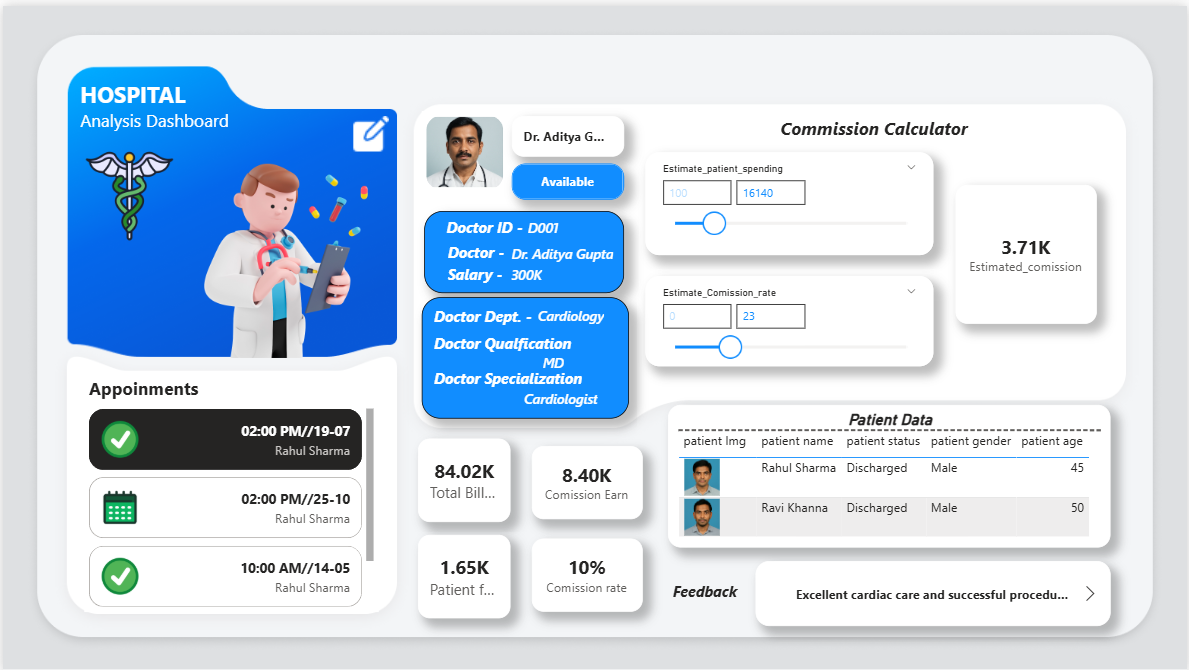

The page's visual inventory and layout, read from the dashboard file:
{"tool":"powerbi","page":{"name":"Doctor's Dashboard","canvas":[1280,720],"ordinal":1},"visuals":[{"type":"image","box":[196,158,226,222],"z":0},{"type":"shape","box":[455,221.2,216.2,88.8],"z":0,"group":"g1"},{"type":"shape","box":[452.5,315,223.8,131.2],"z":0,"group":"g2"},{"type":"textbox","box":[78.2,74.1,179.8,72.7],"z":1000},{"type":"textbox","box":[475.8,274.1,98.8,34.8],"z":1000,"group":"g1"},{"type":"textbox","box":[460.3,319,141.2,35],"z":1000,"group":"g2"},{"type":"image","box":[363.6,119.4,68.6,38.4],"z":2000},{"type":"textbox","box":[474.4,222.6,98.8,34.8],"z":2000,"group":"g1"},{"type":"textbox","box":[460,386.2,193.8,35],"z":2000,"group":"g2"},{"type":"textbox","box":[475.8,249,73.7,34.8],"z":3000,"group":"g1"},{"type":"textbox","box":[460.3,349,175.6,35.6],"z":3000,"group":"g2"},{"type":"tableEx","title":"Patient Data","fields":{"Values":["Patient_info.patient_Img","Patient_info.patient_name","Patient_info.patient_status","Patient_info.patient_gender","Patient_info.patient_age"]},"box":[719.3,431.3,478.6,154.4],"z":3000},{"type":"cardVisual","fields":{"Data":["Sum(Patient_info.doctor_salary)"]},"box":[544,268.5,91.8,41.7],"z":4000,"group":"g1"},{"type":"cardVisual","fields":{"Data":["Min(Patient_info.doctor_department)"]},"box":[572.1,317.8,103.8,32.5],"z":4000,"group":"g2"},{"type":"cardVisual","title":"vrgrbb","fields":{"Data":["Measure.Total_bill_amount"]},"box":[448.7,468.2,100,90],"z":4000},{"type":"cardVisual","fields":{"Data":["Min(Appoinment.doctor_id)"]},"box":[562.1,221.2,91.8,34.8],"z":5000,"group":"g1"},{"type":"cardVisual","fields":{"Data":["Min(Patient_info.doctor_qualification)"]},"box":[577.5,368.8,72.5,31.2],"z":5000,"group":"g2"},{"type":"cardVisual","fields":{"Data":["Measure.Doctor_fees"]},"box":[449.3,571.8,100,90.1],"z":5000},{"type":"cardVisual","fields":{"Data":["Min(Patient_info.doctor_name)"]},"box":[544,244.9,130.8,41.7],"z":6000,"group":"g1"},{"type":"cardVisual","fields":{"Data":["Min(Patient_info.doctor_specialization)"]},"box":[557.5,405,125,35],"z":6000,"group":"g2"},{"type":"cardVisual","title":"vrgrbb","fields":{"Data":["Measure.Doc_comission_amt"]},"box":[571.8,476.1,119.7,78.9],"z":6000},{"type":"cardVisual","title":"vrgrbb","fields":{"Data":["Measure.Doc_Comission_rate"]},"box":[571.8,576.1,119.7,78.9],"z":7000},{"type":"cardVisual","fields":{"Data":["Min(Patient_info.patient_Img)"]},"box":[452.5,113.1,93.1,90],"z":8000},{"type":"cardVisual","title":"vrgrbb","fields":{"Data":["Min(Patient_info.doctor_name)"]},"box":[549.7,119,121.5,44.2],"z":9000},{"type":"cardVisual","title":"vrgrbb","fields":{"Data":["Min(Patient_info.doctor_availability)"]},"box":[550,170.9,121.8,39.1],"z":10000},{"type":"image","box":[64,152,146,106],"z":11000},{"type":"advancedSlicerVisual","fields":{"Values":["Appoinment.Appoinment_date_time"]},"box":[87.5,400,318.8,255],"z":13000},{"type":"advancedSlicerVisual","fields":{"Values":["Patient_info.satisfaction_feedback"]},"box":[813.8,600,383.8,70],"z":14000},{"type":"textbox","box":[718.8,616.2,95,36.2],"z":15000},{"type":"group","id":"g1","title":"dr_detail_1","box":[455,221.2,219.8,89],"z":16000},{"type":"group","id":"g2","title":"dr_detail_2","box":[452.5,315,230,131.2],"z":17000},{"type":"slicer","fields":{"Values":["Estimate_patient_spending.Estimate_patient_spending"]},"box":[694.6,158.1,310.8,110.8],"z":18000},{"type":"slicer","fields":{"Values":["Estimate_Comission_rate.Estimate_Comission_rate"]},"box":[694.6,291.9,310.8,97.3],"z":19000},{"type":"textbox","box":[766.2,114.9,351.4,36.5],"z":20000},{"type":"cardVisual","fields":{"Data":["Measure.Estimated_comission"]},"box":[1029.7,193.2,152.7,150],"z":21000}]}

Visuals, with their boxes in screenshot pixels (x1, y1, x2, y2), scaled from the page's 1280x720 canvas onto the 1189x670 screenshot:
image: x1=182 y1=147 x2=392 y2=354
shape: x1=423 y1=206 x2=623 y2=288
shape: x1=420 y1=293 x2=628 y2=415
textbox: x1=73 y1=69 x2=240 y2=137
textbox: x1=442 y1=255 x2=534 y2=287
textbox: x1=428 y1=297 x2=559 y2=329
image: x1=338 y1=111 x2=401 y2=147
textbox: x1=441 y1=207 x2=532 y2=240
textbox: x1=427 y1=359 x2=607 y2=392
textbox: x1=442 y1=232 x2=510 y2=264
textbox: x1=428 y1=325 x2=591 y2=358
"Patient Data" tableEx: x1=668 y1=401 x2=1113 y2=545
cardVisual - Sum(Patient_info.doctor_salary): x1=505 y1=250 x2=591 y2=289
cardVisual - Min(Patient_info.doctor_department): x1=531 y1=296 x2=628 y2=326
"vrgrbb" cardVisual: x1=417 y1=436 x2=510 y2=519
cardVisual - Min(Appoinment.doctor_id): x1=522 y1=206 x2=607 y2=238
cardVisual - Min(Patient_info.doctor_qualification): x1=536 y1=343 x2=604 y2=372
cardVisual - Measure.Doctor_fees: x1=417 y1=532 x2=510 y2=616
cardVisual - Min(Patient_info.doctor_name): x1=505 y1=228 x2=627 y2=267
cardVisual - Min(Patient_info.doctor_specialization): x1=518 y1=377 x2=634 y2=409
"vrgrbb" cardVisual: x1=531 y1=443 x2=642 y2=516
"vrgrbb" cardVisual: x1=531 y1=536 x2=642 y2=610
cardVisual - Min(Patient_info.patient_Img): x1=420 y1=105 x2=507 y2=189
"vrgrbb" cardVisual: x1=511 y1=111 x2=623 y2=152
"vrgrbb" cardVisual: x1=511 y1=159 x2=624 y2=195
image: x1=59 y1=141 x2=195 y2=240
advancedSlicerVisual - Appoinment.Appoinment_date_time: x1=81 y1=372 x2=377 y2=610
advancedSlicerVisual - Patient_info.satisfaction_feedback: x1=756 y1=558 x2=1112 y2=623
textbox: x1=668 y1=573 x2=756 y2=607
"dr_detail_1" group: x1=423 y1=206 x2=627 y2=289
"dr_detail_2" group: x1=420 y1=293 x2=634 y2=415
slicer - Estimate_patient_spending.Estimate_patient_spending: x1=645 y1=147 x2=934 y2=250
slicer - Estimate_Comission_rate.Estimate_Comission_rate: x1=645 y1=272 x2=934 y2=362
textbox: x1=712 y1=107 x2=1038 y2=141
cardVisual - Measure.Estimated_comission: x1=956 y1=180 x2=1098 y2=319
